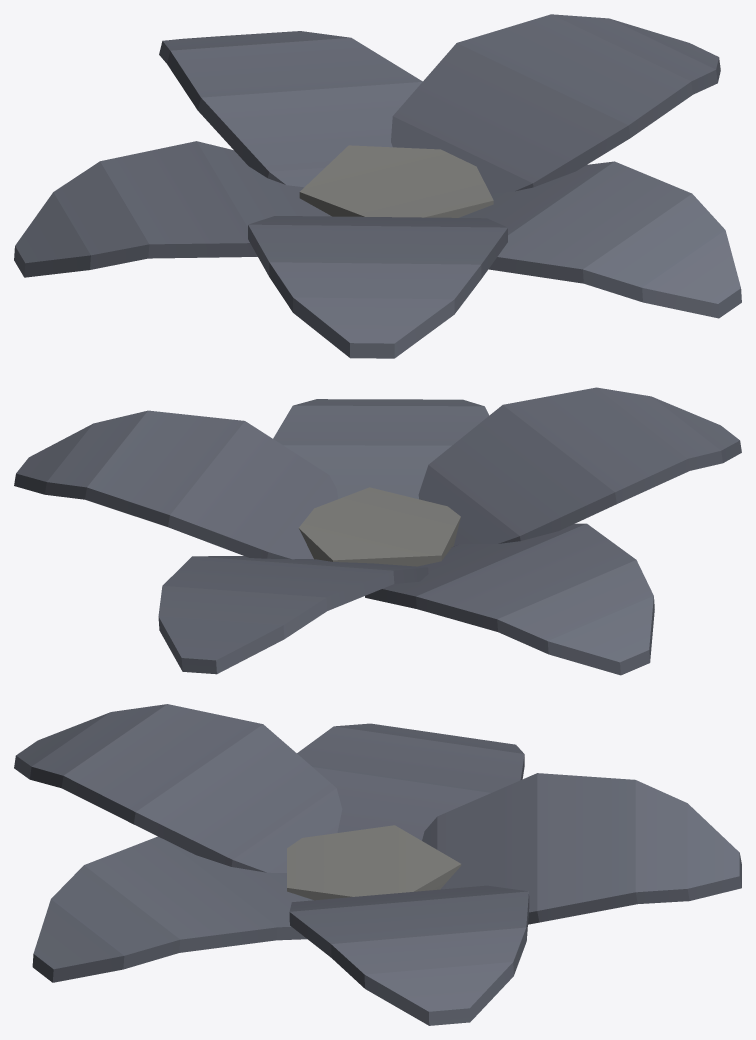
The model's file is Flower_04.fbx.
3 views of the same model, one above another, from view 1: azimuth 30°, elevation 25°; view 2: azimuth 150°, elevation 25°; view 3: azimuth 270°, elevation 25° (orthographic). The views are drawn at different scales.
Parts seen in each view (by area): view 1: Flower_04; view 2: Flower_04; view 3: Flower_04.
Boxes of the visible parts, left/top/right/bottom form: Flower_04: left=14, top=14, right=741, bottom=358; Flower_04: left=14, top=387, right=741, bottom=675; Flower_04: left=14, top=704, right=741, bottom=1025.
Bounding box in the file's own units: 0.2912 × 0.0478 × 0.2824.
